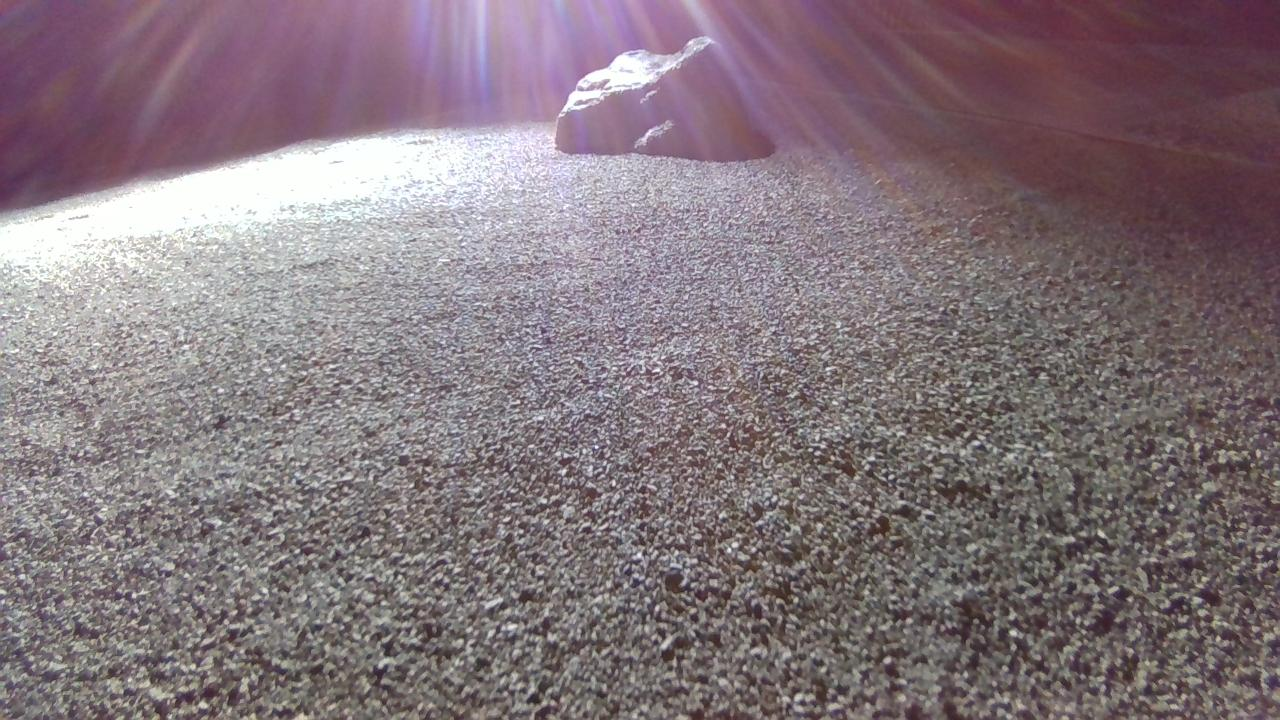rock: (556, 35, 755, 160)
